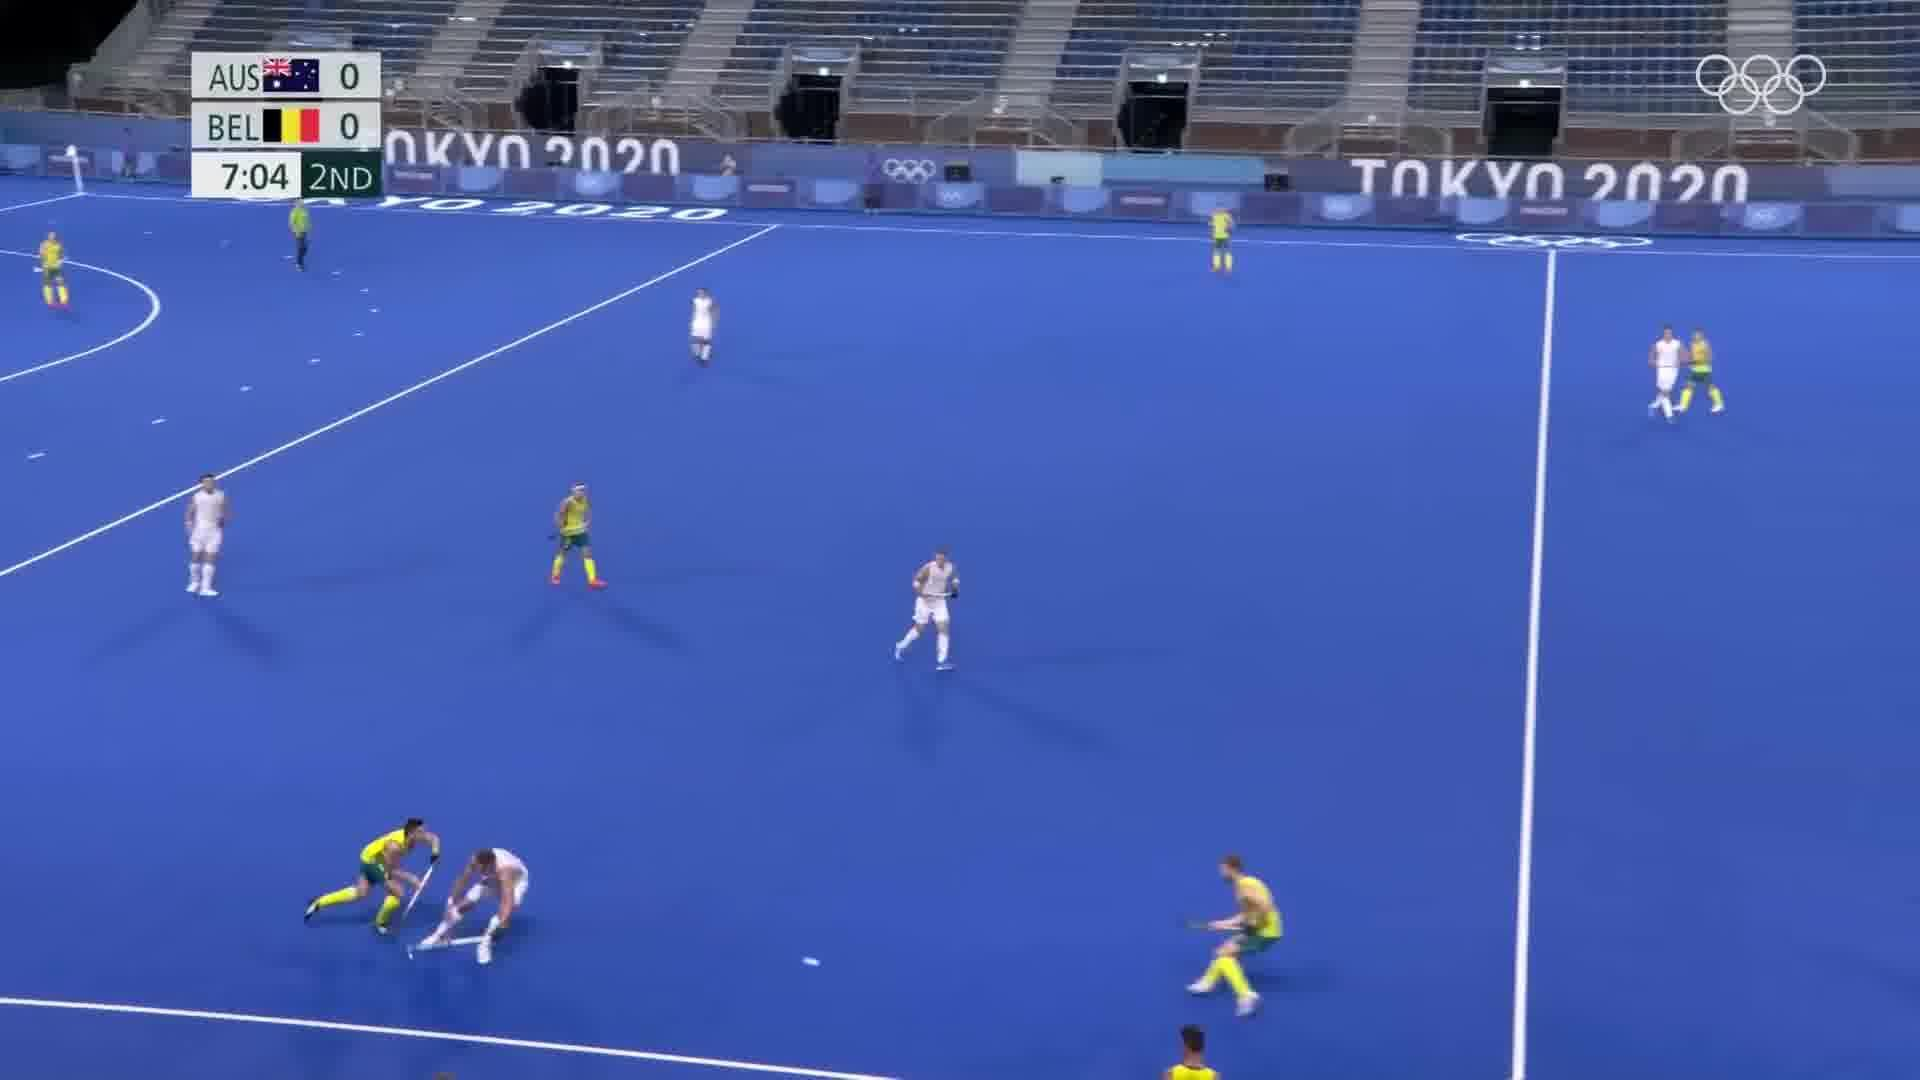ball: (798, 951, 827, 972)
